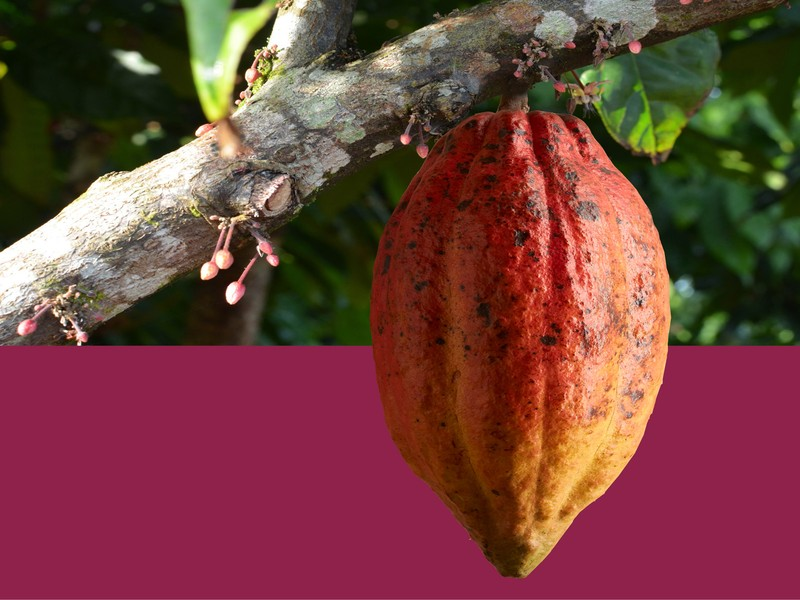Cacaopod: (367, 107, 673, 579)
